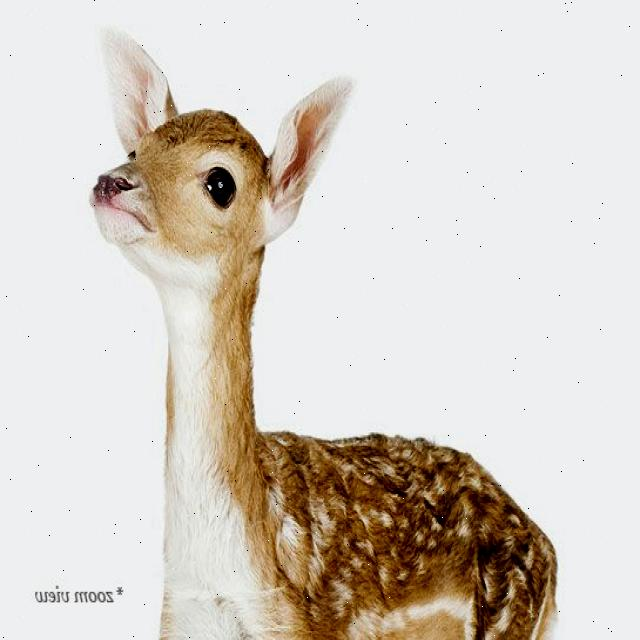deer: (54, 29, 360, 313)
